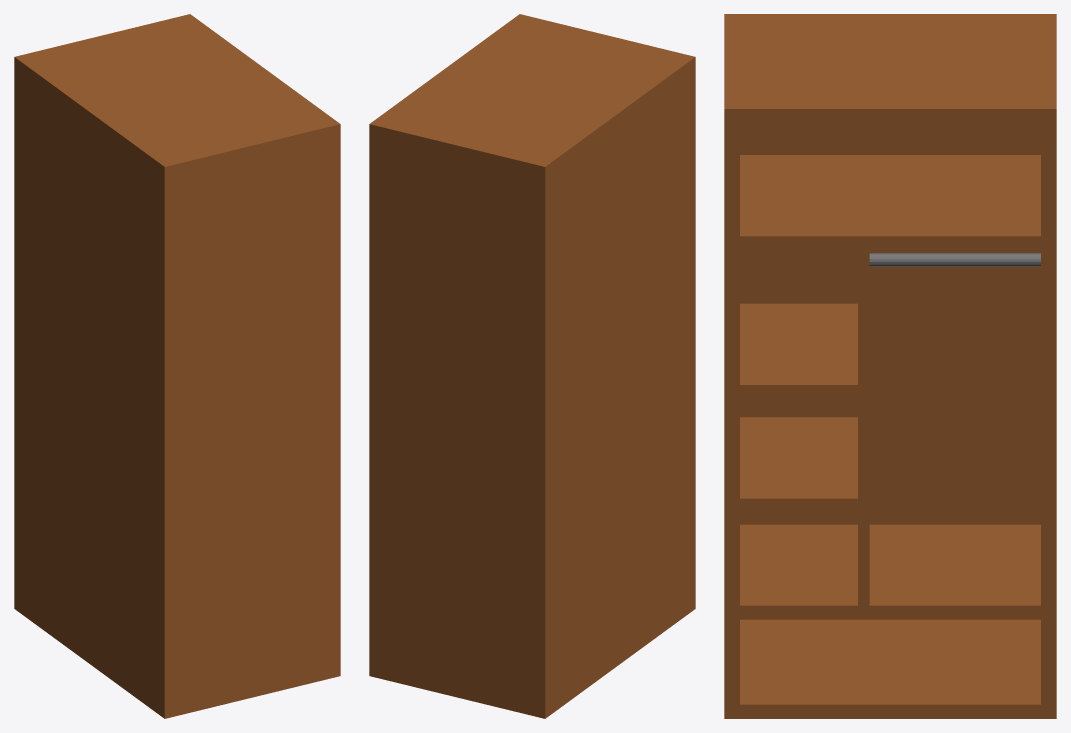
File: Shkaf.fbx
The picture shows the model from 3 angles, left to right: view 1: azimuth 30°, elevation 25°; view 2: azimuth 150°, elevation 25°; view 3: azimuth 270°, elevation 25°; orthographic projection. The views are drawn at different scales.
Parts seen in each view (by area): view 1: Shkaf; view 2: Shkaf; view 3: Shkaf.
Boxes of the visible parts, x1,y1,x2,y2 form: Shkaf: (14,14,340,718); Shkaf: (369,14,695,718); Shkaf: (724,14,1056,718).
Size of the model in its own units: 163 by 488 by 241.
